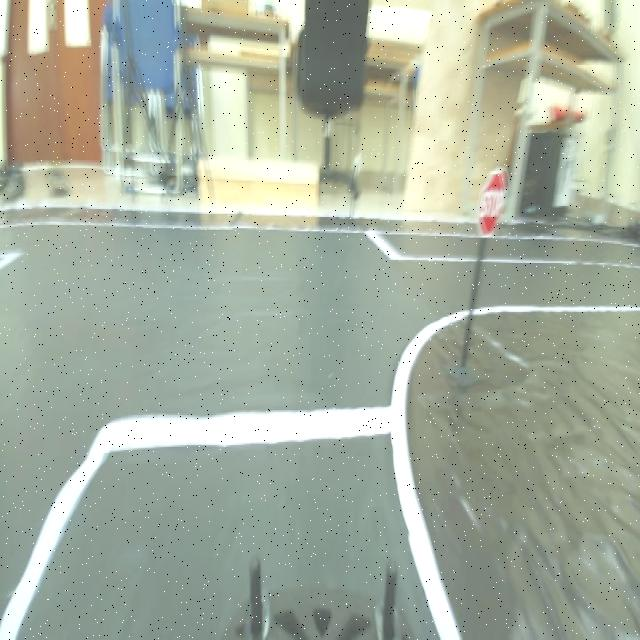stop: (475, 165, 510, 247)
